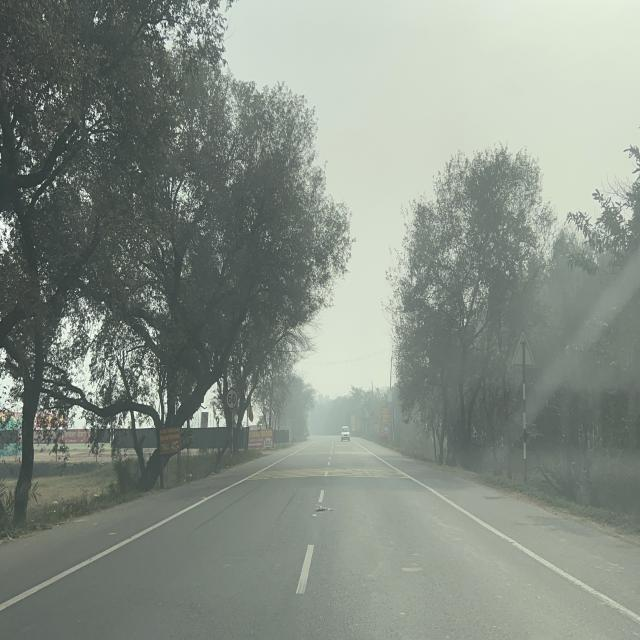SPEED_LIMIT_60: (226, 387, 238, 408)
TURN_LEFT: (371, 411, 374, 418)
